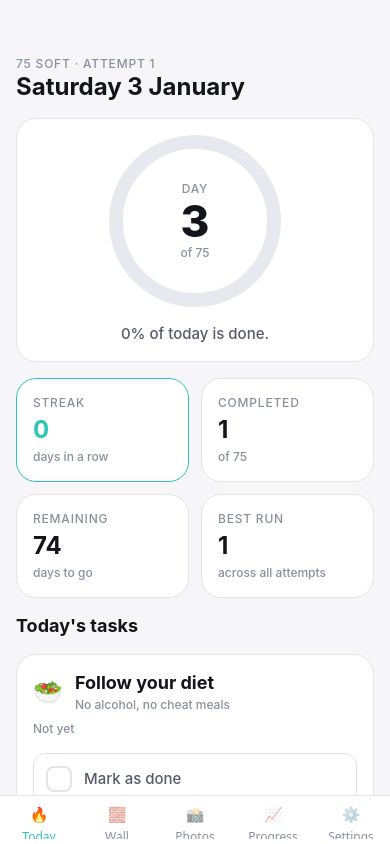
it: Wall tab › colors each day cell by its real status
Expected: the text "Today" is shown, [22,829,56,839]
What coordinates should you click on to do the following:
click the text "Wall"
I would click on:
 (117, 834)
Its box is [105,829,129,839].
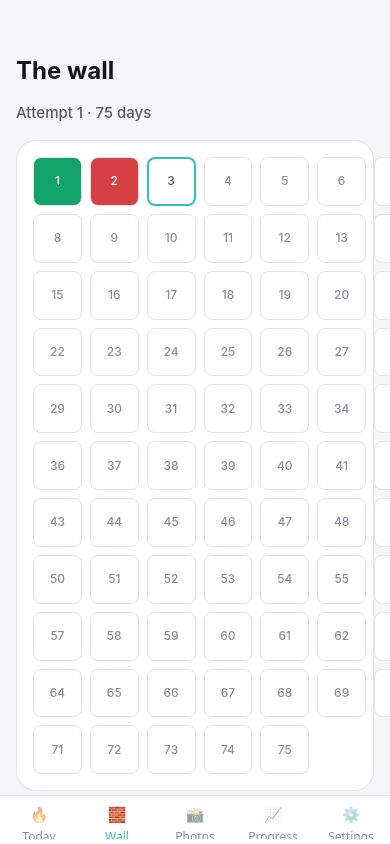
Result: the element named "Day 1, completed" is shown at [33,157,82,206]
Result: the element named "Day 2, missed" is shown at [90,157,139,206]
Result: the element named "Day 3, pending" is shown at [147,157,196,206]
